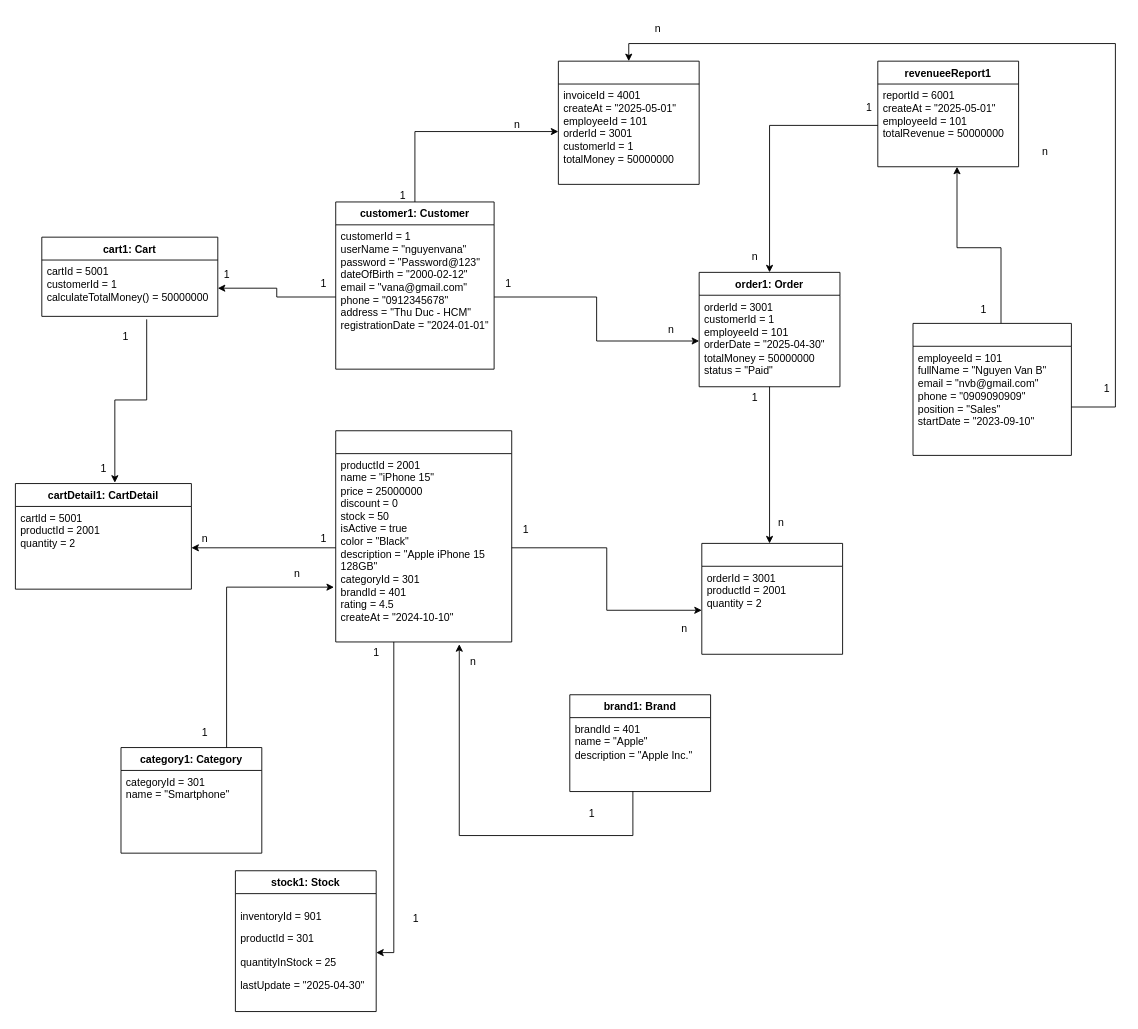
Some shapes in this 1138 by 1029 pixel diagram are drawn without their labels. Each missing label, with the box of its shape:
employee1: Employee: (912, 323, 1071, 455)
invoice1: Invoice: (557, 60, 699, 184)
orderDetail1: Order: (701, 543, 843, 654)
product1: Product: (335, 430, 512, 642)
